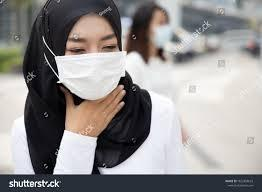Wearing Mask: (26, 0, 134, 103), (139, 0, 194, 57)
